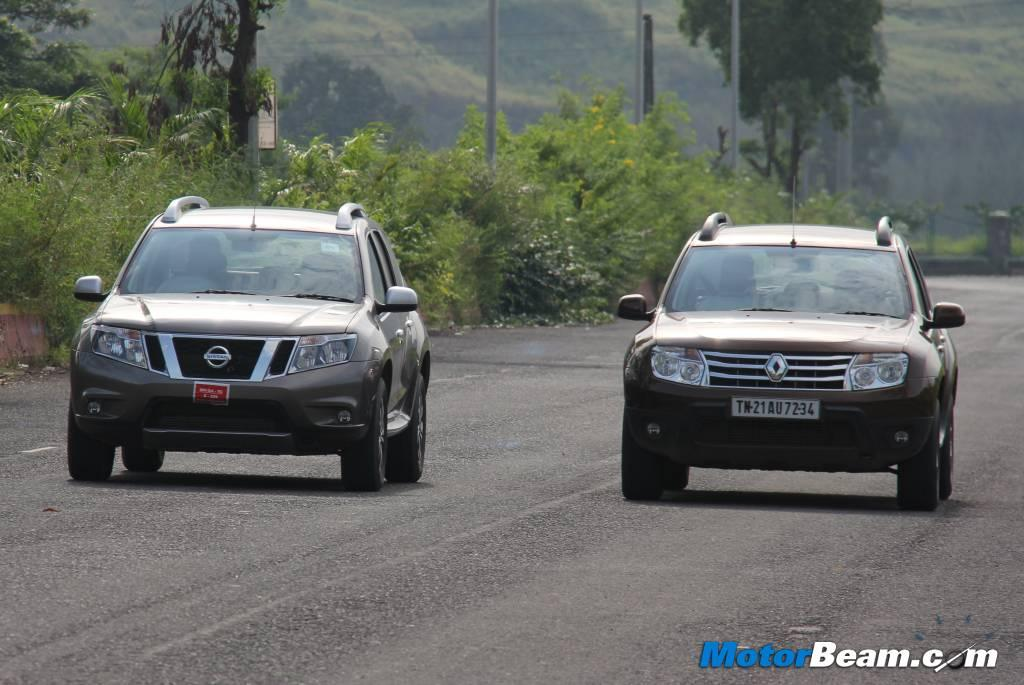car: (53, 125, 466, 548), (578, 173, 992, 559)
